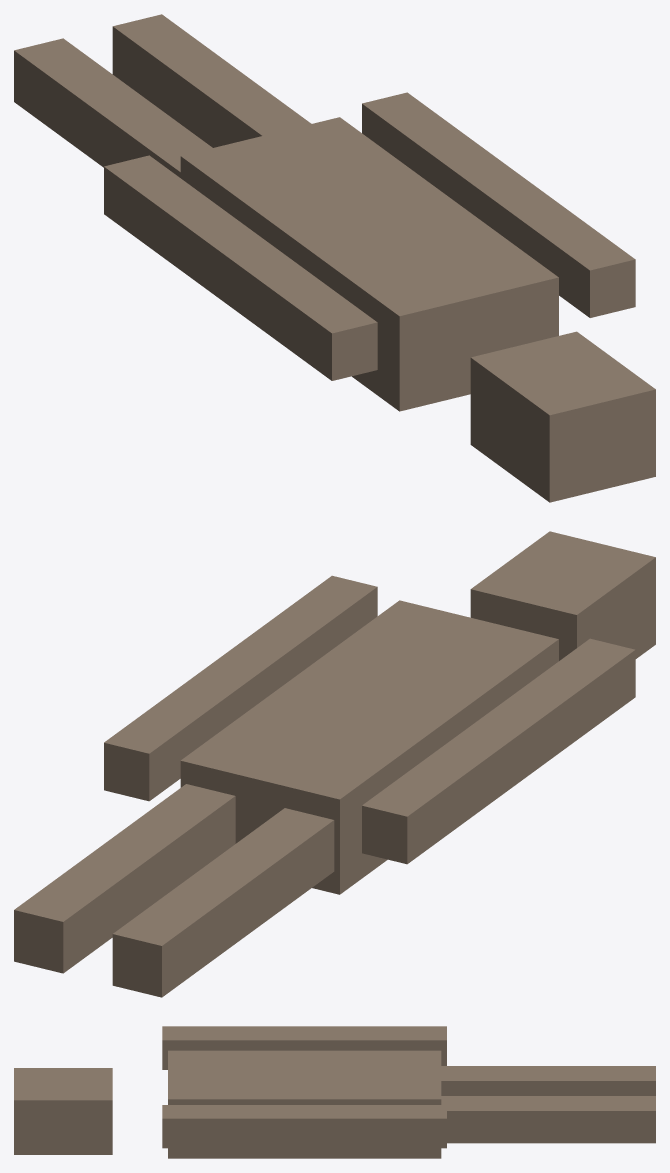
Rendered from enemy_fast_ultimate_proxy.glb.
3 renders of one model, top to bottom at view 1: azimuth 30°, elevation 25°; view 2: azimuth 150°, elevation 25°; view 3: azimuth 270°, elevation 25°, orthographic. The views are drawn at different scales.
Visible parts, largest first — view 1: torso, head, arm_l, arm_r, leg_l, leg_r; view 2: torso, arm_l, leg_l, arm_r, leg_r, head; view 3: torso, arm_r, leg_r, head, arm_l, leg_l.
Part boxes in pixels (<box>): torso: <box>180,117,558,411</box>; head: <box>470,331,655,502</box>; arm_l: <box>104,155,377,380</box>; arm_r: <box>362,92,635,317</box>; leg_l: <box>14,38,212,177</box>; leg_r: <box>112,14,311,147</box>; torso: <box>180,600,558,894</box>; arm_l: <box>362,638,635,864</box>; leg_l: <box>112,808,334,997</box>; arm_r: <box>104,575,377,801</box>; leg_r: <box>14,784,235,973</box>; head: <box>470,531,655,660</box>; torso: <box>168,1050,441,1158</box>; arm_r: <box>162,1105,446,1148</box>; leg_r: <box>441,1096,655,1143</box>; head: <box>14,1068,112,1154</box>; arm_l: <box>162,1026,446,1069</box>; leg_l: <box>441,1066,655,1095</box>.
Bounding box in the file's own units: 0.576 × 0.1924 × 1.69.
